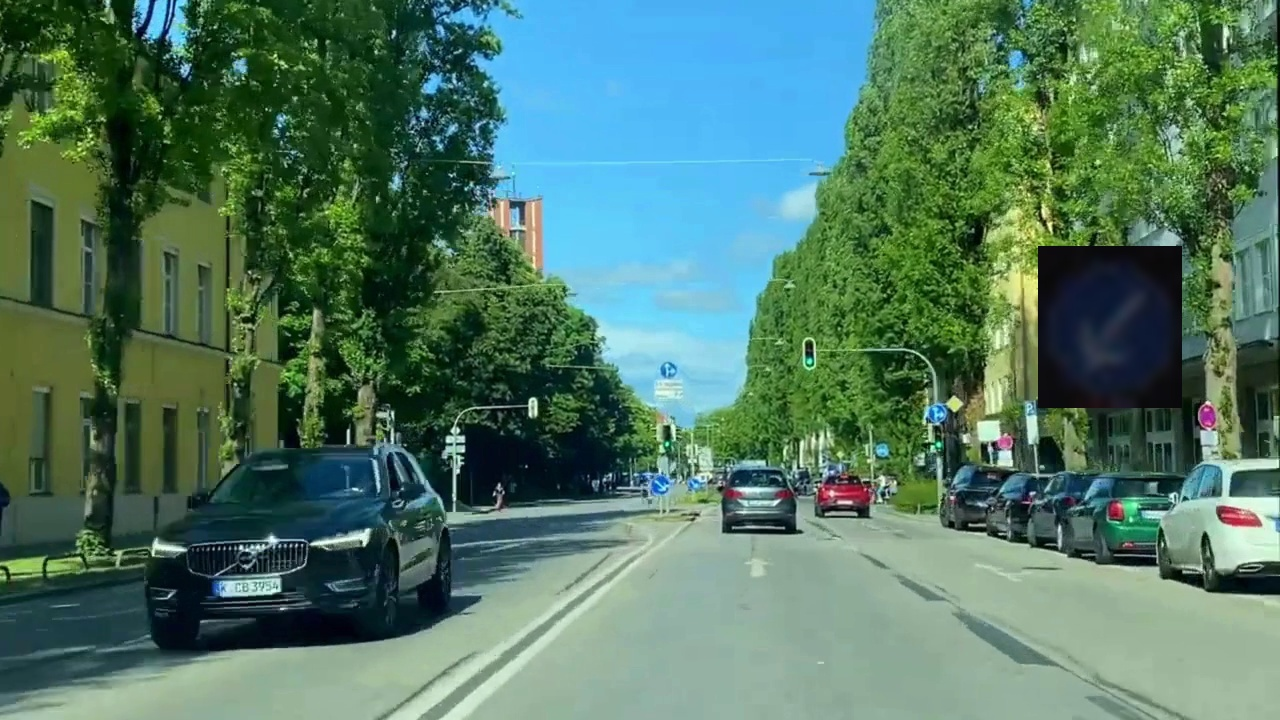Keep left: (1038, 246, 1182, 408)
